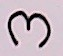sum: (2, 4, 56, 52)
